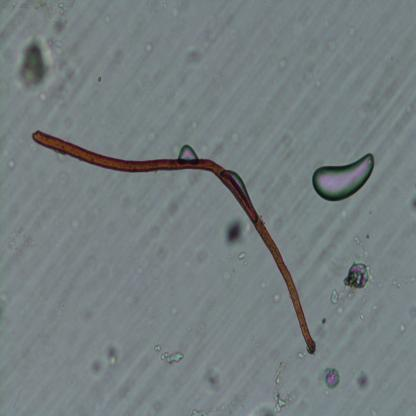Air bubble: (310, 150, 378, 204), (179, 141, 198, 162)
Background material: (46, 13, 80, 110), (19, 35, 56, 101), (266, 356, 292, 412), (86, 343, 120, 375), (344, 258, 374, 294), (200, 354, 226, 392), (33, 1, 75, 18), (226, 218, 246, 250), (154, 346, 184, 365), (356, 368, 375, 394), (162, 200, 184, 220), (180, 44, 199, 67), (349, 232, 366, 256), (141, 40, 160, 58), (317, 312, 330, 338), (405, 299, 416, 319), (329, 289, 341, 305), (396, 317, 407, 332), (358, 310, 367, 326), (270, 292, 280, 306), (393, 276, 403, 288), (408, 198, 416, 212), (238, 249, 246, 261), (159, 249, 169, 258), (408, 273, 416, 283)
Diatom: (320, 365, 342, 392)
Microfibre: (31, 127, 315, 353)
